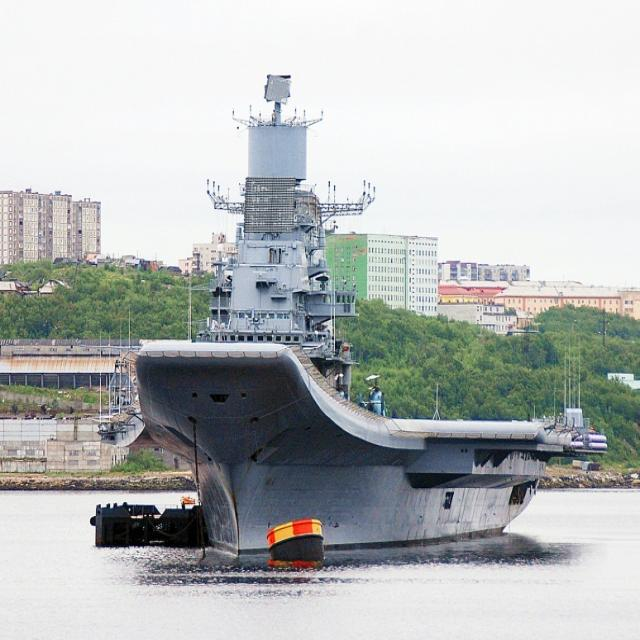Portanaves: (99, 67, 580, 561)
